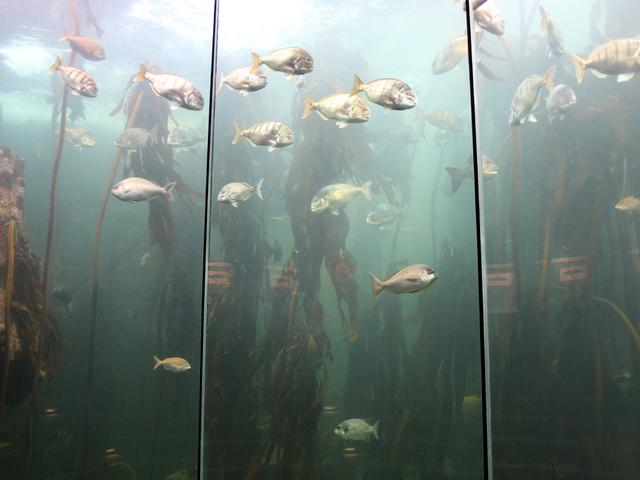fish: (364, 242, 455, 312), (102, 170, 201, 213), (131, 68, 209, 113)
